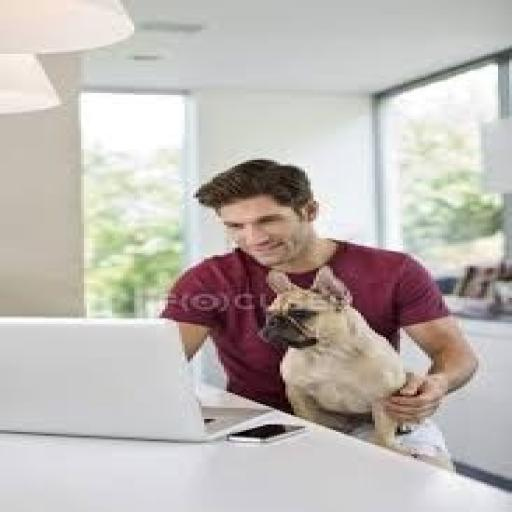using_laptop: (0, 315, 274, 443)
